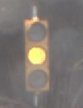Yellow: (20, 7, 59, 98)
